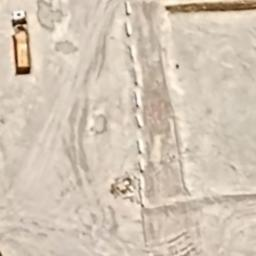truck: (8, 6, 36, 76)
